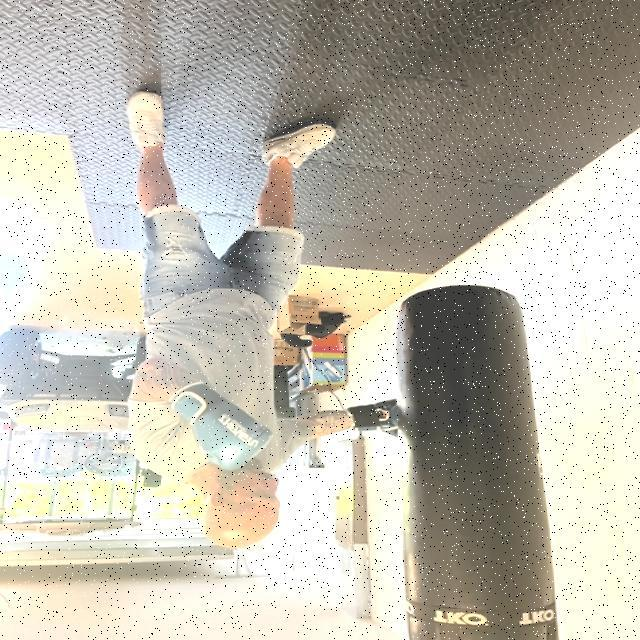punch: (142, 358, 428, 558)
